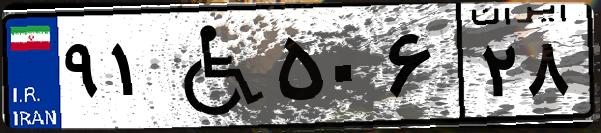0: (330, 28, 385, 110)
1: (110, 28, 158, 98)
2: (475, 38, 525, 113)
5: (270, 28, 330, 110)
6: (385, 28, 445, 110)
8: (525, 38, 570, 115)
9: (57, 26, 110, 100)
ژ (معلولین و جانبازان): (158, 12, 270, 120)
